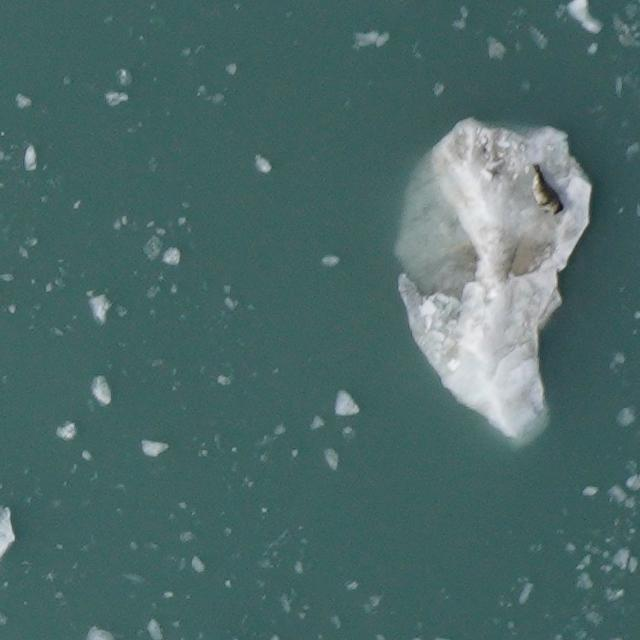seal: (529, 159, 568, 218)
